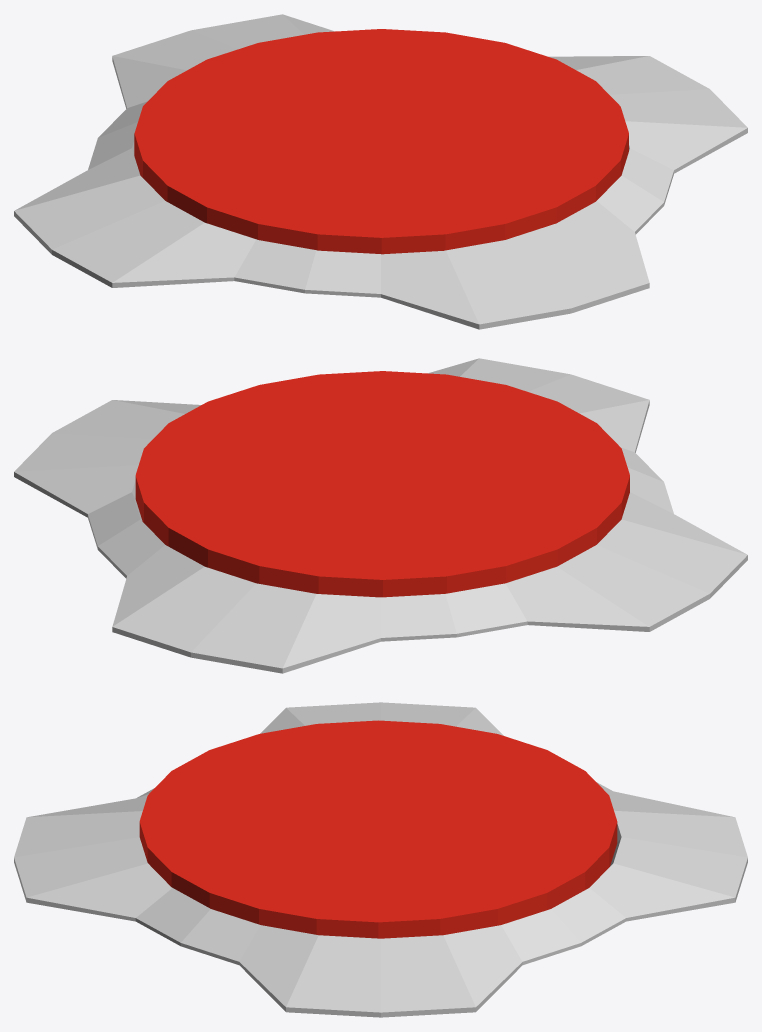
The model's file is Ground Button.glb.
3 views of the same model, one above another, from view 1: azimuth 30°, elevation 25°; view 2: azimuth 150°, elevation 25°; view 3: azimuth 270°, elevation 25° (orthographic). The views are drawn at different scales.
Visible parts, largest first — view 1: Cylinder.002, Cylinder.003; view 2: Cylinder.002, Cylinder.003; view 3: Cylinder.002, Cylinder.003.
Boxes of the visible parts, <box> form: Cylinder.002: <box>134,29,628,254</box>; Cylinder.003: <box>14,14,747,329</box>; Cylinder.002: <box>135,371,629,597</box>; Cylinder.003: <box>14,358,747,673</box>; Cylinder.002: <box>139,720,617,938</box>; Cylinder.003: <box>14,702,747,1017</box>.
Bounding box in the file's own units: 0.989 × 0.0607 × 0.989.
